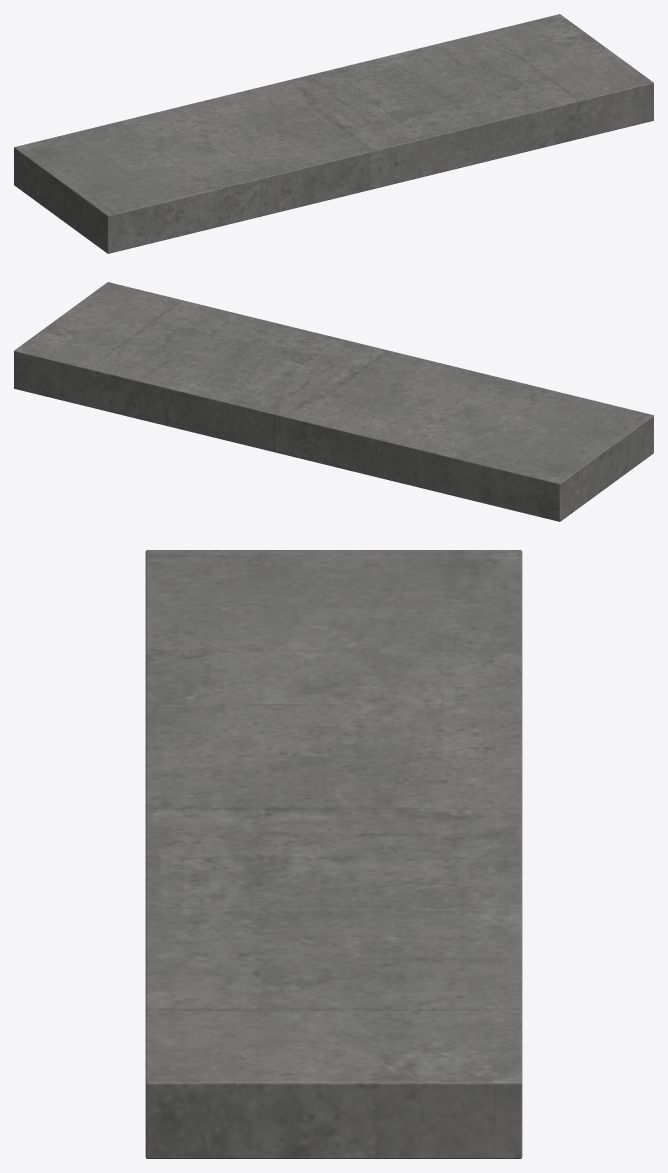
Rendered from SM_GarageConcrete_TemporaryRoof.fbx.
3 views of the same model, one above another, from view 1: azimuth 30°, elevation 25°; view 2: azimuth 150°, elevation 25°; view 3: azimuth 270°, elevation 25° (orthographic). The views are drawn at different scales.
Parts seen in each view (by area): view 1: SM_GarageConcrete_TemporaryRoof; view 2: SM_GarageConcrete_TemporaryRoof; view 3: SM_GarageConcrete_TemporaryRoof.
Part boxes in pixels (bbox=[...]): SM_GarageConcrete_TemporaryRoof: bbox=[14, 14, 653, 253]; SM_GarageConcrete_TemporaryRoof: bbox=[14, 282, 653, 521]; SM_GarageConcrete_TemporaryRoof: bbox=[145, 550, 522, 1158].
Size of the model in its own units: 670 by 200 by 45.
